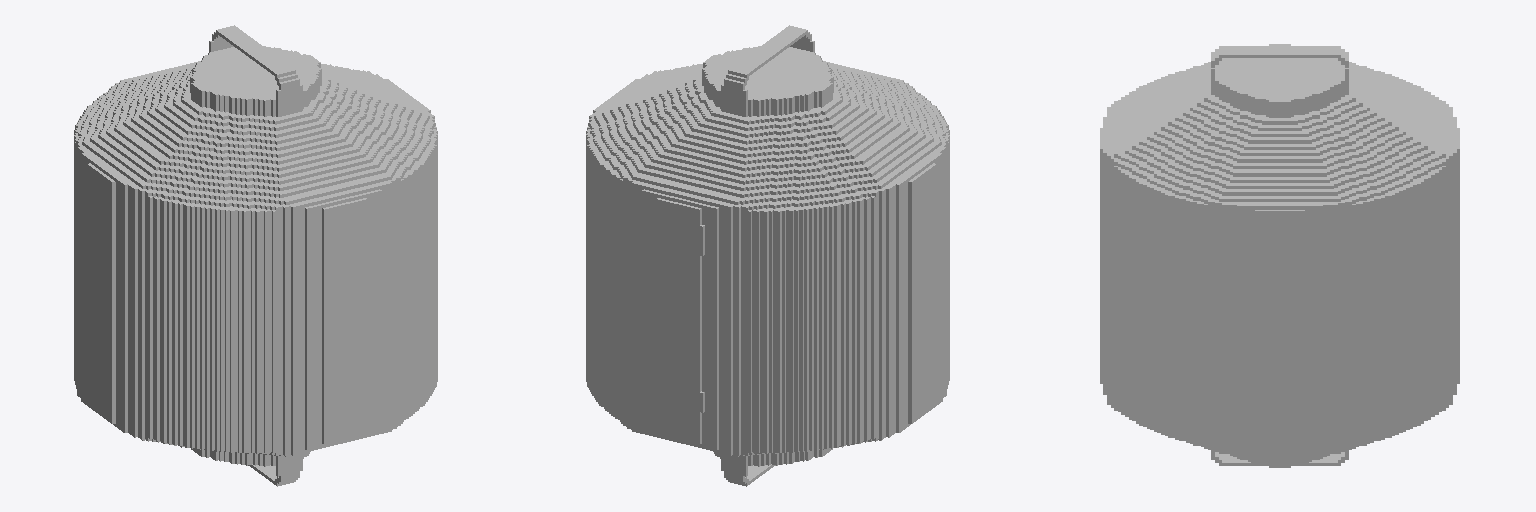
The model's file is Lanterne Play.obj.
3 views of the same model, side by side, from view 1: azimuth 30°, elevation 25°; view 2: azimuth 150°, elevation 25°; view 3: azimuth 270°, elevation 25° (orthographic).
Visible parts, largest first — view 1: object 1; view 2: object 1; view 3: object 1.
Boxes of the visible parts, x1=… form: object 1: x1=74, y1=25, x2=437, y2=486; object 1: x1=586, y1=25, x2=949, y2=486; object 1: x1=1100, y1=44, x2=1459, y2=467.
Bounding box in the file's own units: 10 × 12.6 × 10.